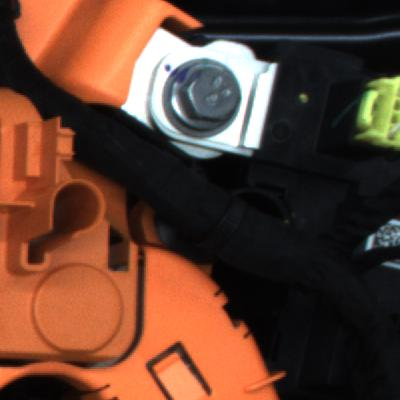nut_b: (151, 57, 253, 135)
